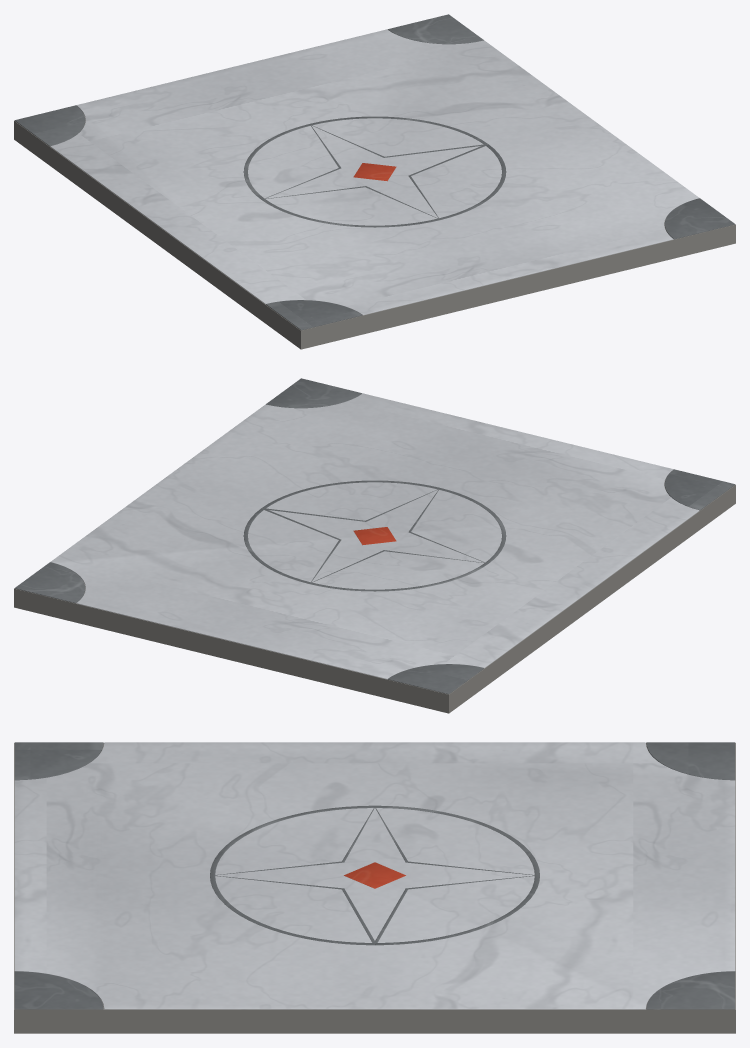
File: floor_KA-DB034.glb
The picture shows the model from 3 angles, top to bottom: view 1: azimuth 30°, elevation 25°; view 2: azimuth 150°, elevation 25°; view 3: azimuth 270°, elevation 25°; orthographic projection. The views are drawn at different scales.
Parts seen in each view (by area): view 1: Floor; view 2: Floor; view 3: Floor.
Part boxes in pixels (left/top/right/bottom): Floor: left=14, top=14, right=735, bottom=349; Floor: left=14, top=378, right=735, bottom=713; Floor: left=14, top=742, right=735, bottom=1033.
Size of the model in its own units: 1.4 by 0.0604 by 1.6.
Materials: 4 (3 with a texture image).
